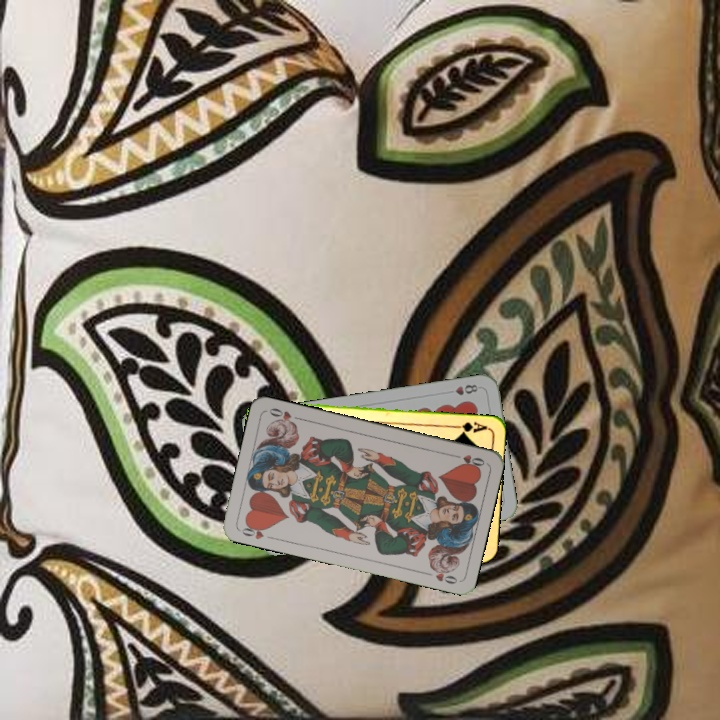GA: (449, 418, 489, 437)
H8: (442, 380, 480, 398)
HO: (236, 519, 271, 542), (448, 450, 487, 470)
